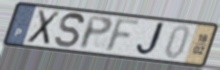0: (162, 24, 192, 61)
F: (103, 17, 144, 55)
J: (135, 21, 169, 58)
P: (78, 15, 114, 51)
S: (54, 12, 86, 50)
X: (25, 8, 63, 47)
